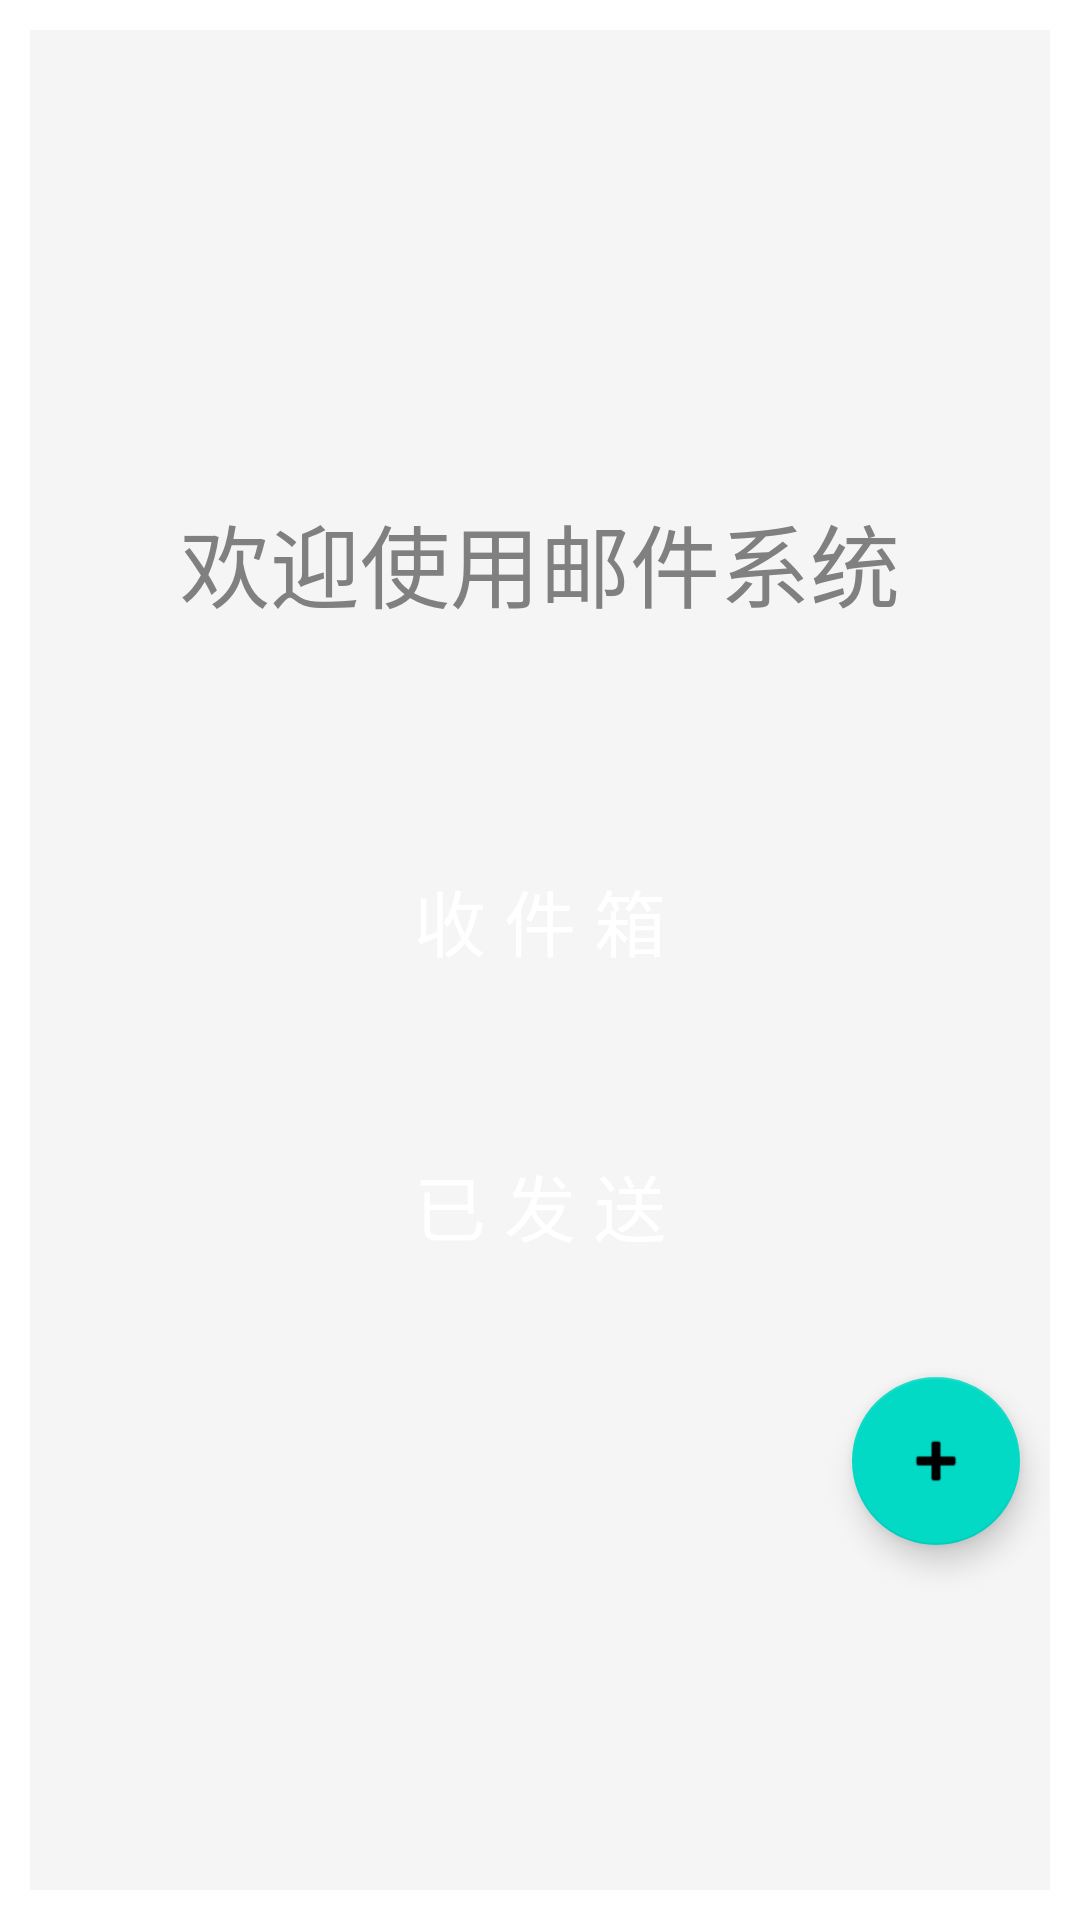

Named icons in this screenshot (1080 x 1920) and their bounding boxes, (x1, y1, x2, y2):
add: (852, 1377, 1020, 1545)
